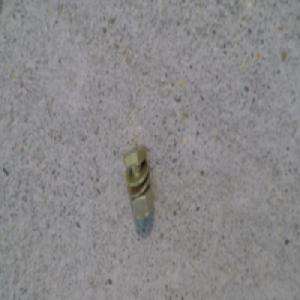BoltNutSet: (124, 143, 156, 218)
